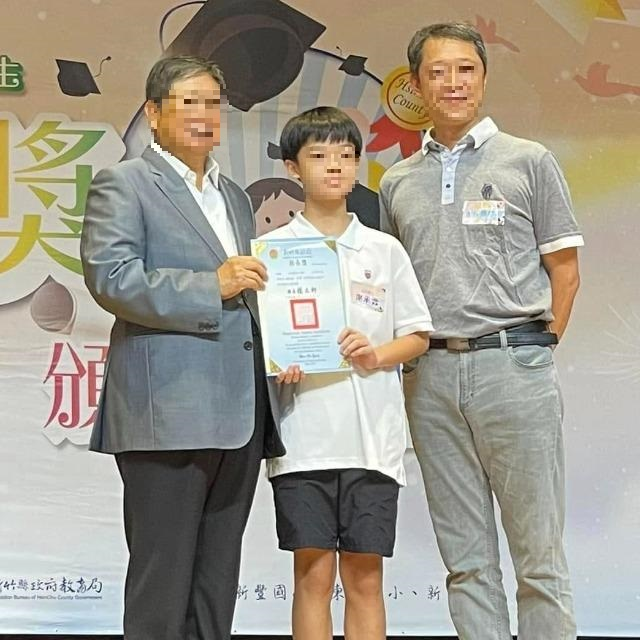NoHelmet: (406, 19, 496, 123), (280, 105, 369, 208), (144, 55, 228, 156)
NoVest: (76, 158, 269, 432), (389, 128, 555, 364)
